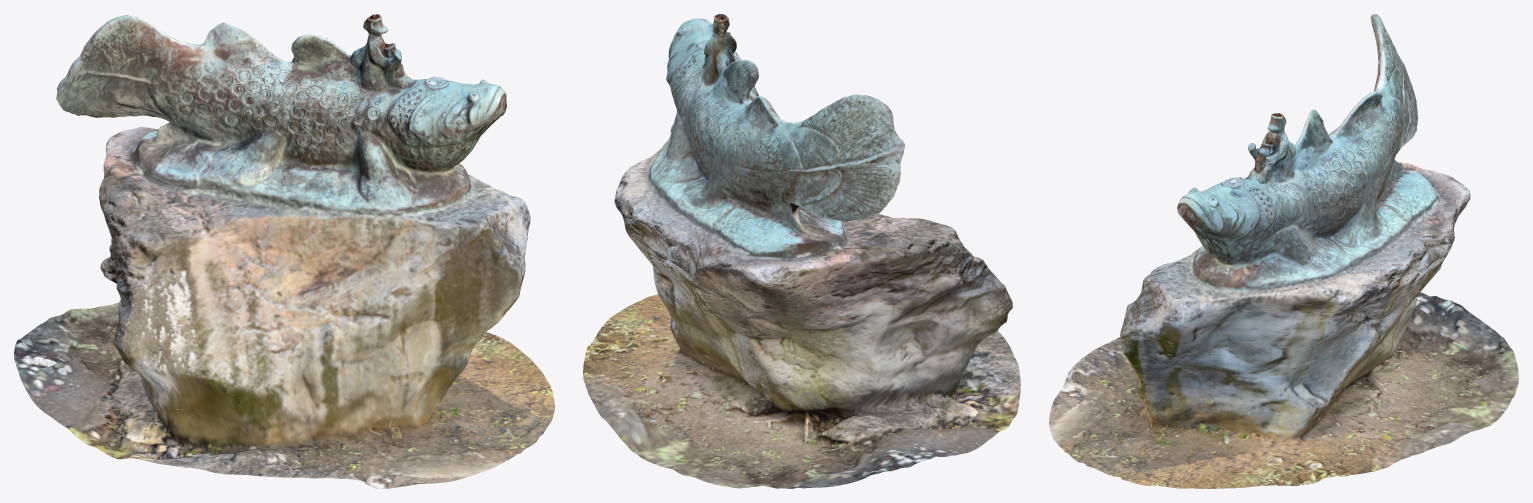
File: Vertical_rock_2.glb
3 renders of one model, left to right at view 1: azimuth 30°, elevation 25°; view 2: azimuth 150°, elevation 25°; view 3: azimuth 270°, elevation 25°, orthographic. The views are drawn at different scales.
Parts seen in each view (by area): view 1: Object_3; view 2: Object_3; view 3: Object_3.
Part boxes in pixels (x1=…): Object_3: x1=14, y1=14, x2=554, y2=488; Object_3: x1=583, y1=14, x2=1020, y2=488; Object_3: x1=1049, y1=14, x2=1518, y2=488.
Bounding box in the file's own units: 0.8863 × 0.7371 × 0.9344.
1 material, 1 textured.
